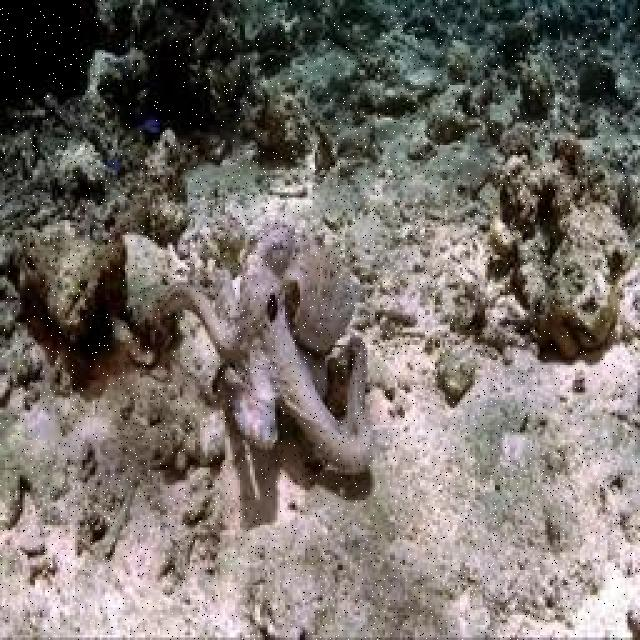reefs: (152, 230, 372, 476)
